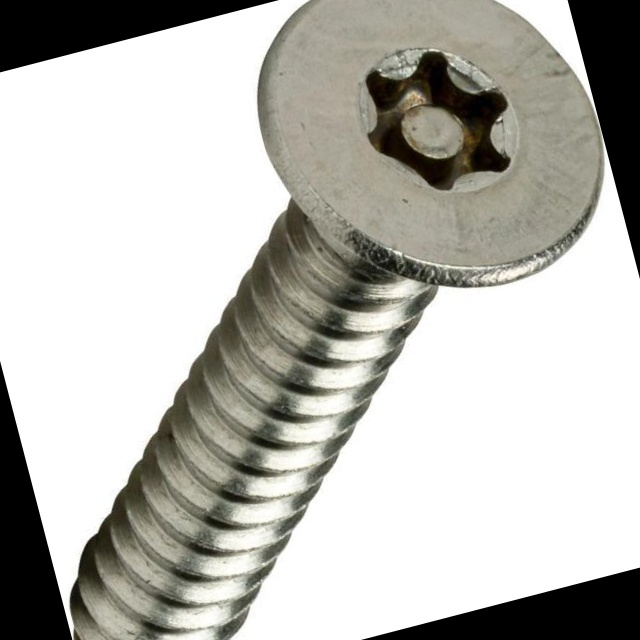torx: (230, 0, 632, 335)
